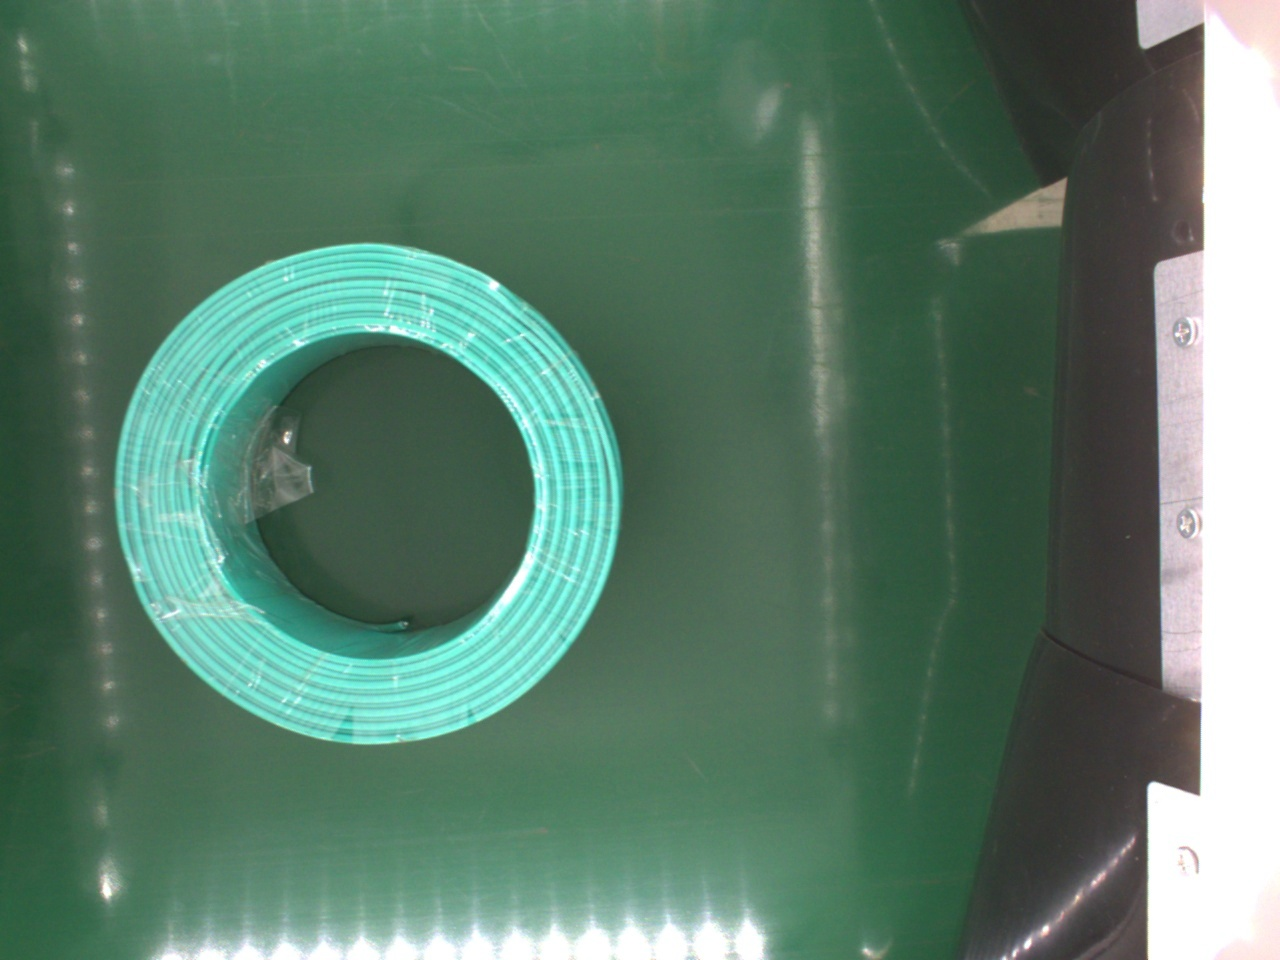green: (110, 240, 621, 754)
